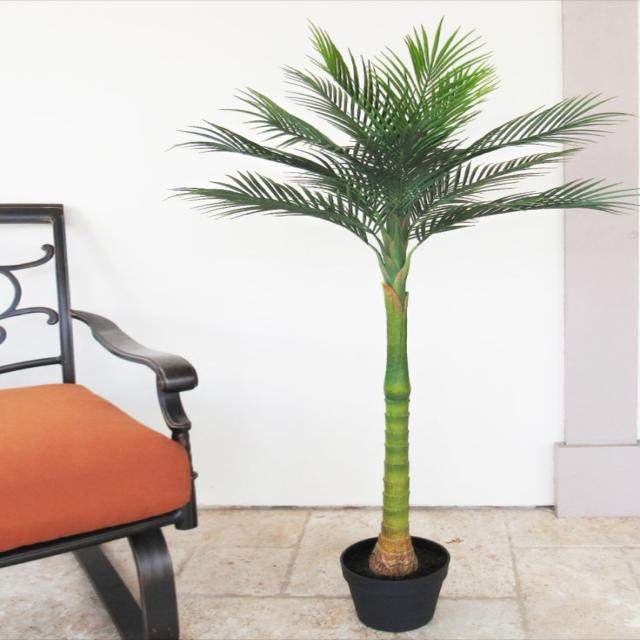door: (553, 0, 638, 518)
obstacle: (0, 202, 200, 639)
